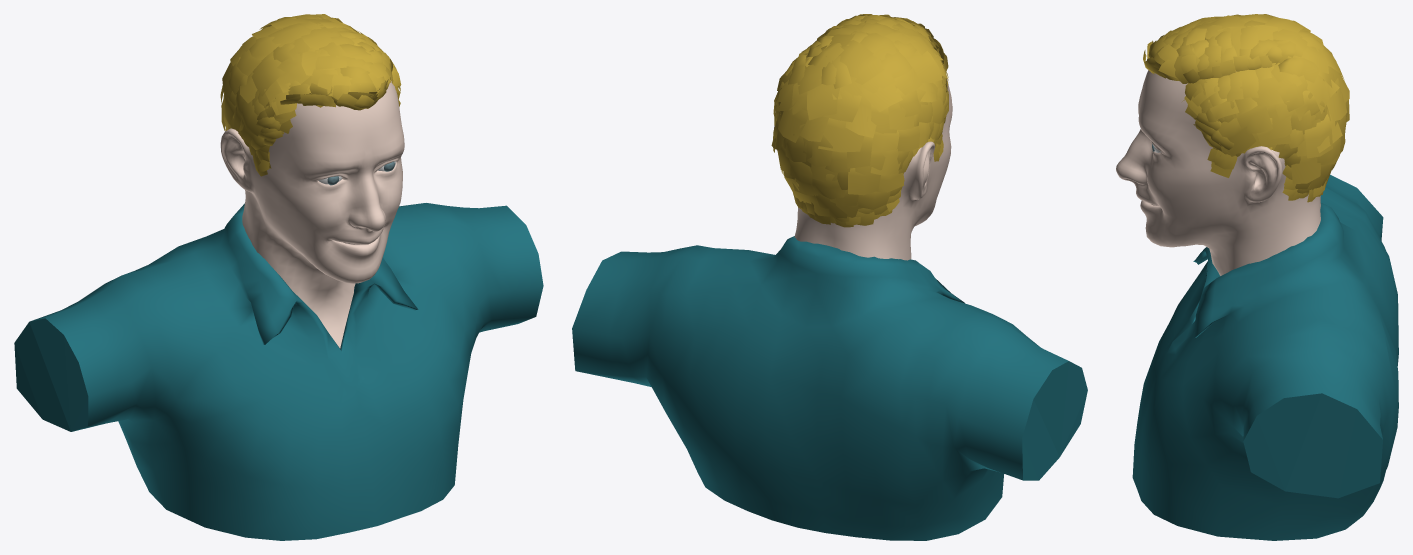
The model's file is InteractiveTreePersonMaleCartoon.dae.
3 renders of one model, left to right at view 1: azimuth 30°, elevation 25°; view 2: azimuth 150°, elevation 25°; view 3: azimuth 270°, elevation 25°, orthographic. The views are drawn at different scales.
Visible parts, largest first — view 1: model; view 2: model; view 3: model.
Part boxes in pixels (bbox=[...]): model: bbox=[14, 14, 543, 540]; model: bbox=[572, 14, 1087, 540]; model: bbox=[1116, 14, 1398, 540].
Bounding box in the file's own units: 0.5471 × 0.5188 × 0.2936.
